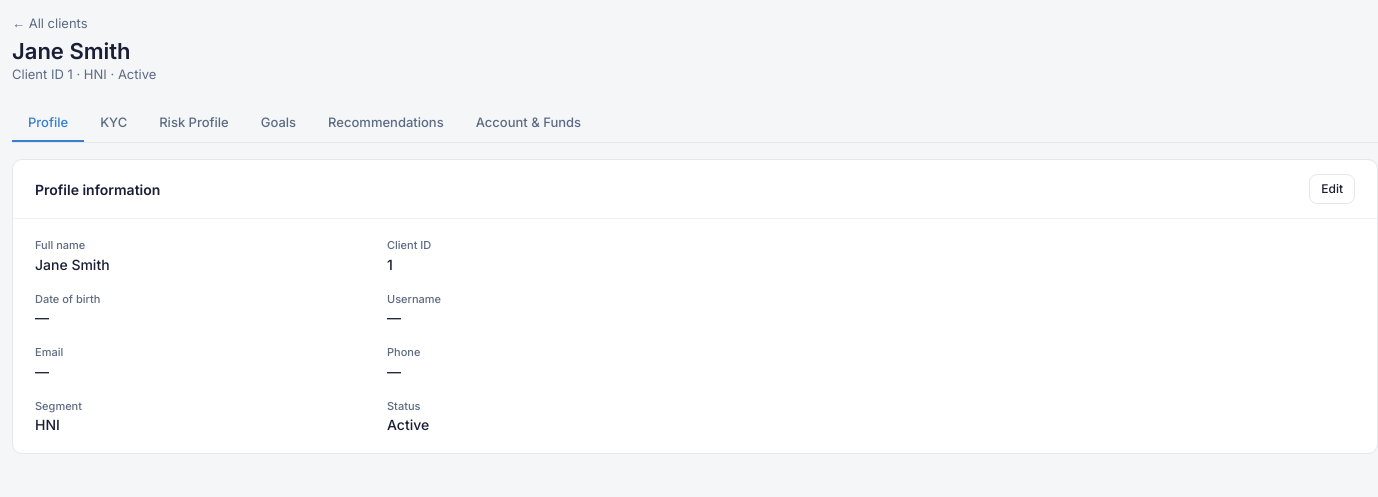
ClientDetail page › switches to KYC tab when KYC button is clicked
This screenshot has width=1378, height=497.
Click the button "KYC" at point(114, 123), box [84,104,143,142]
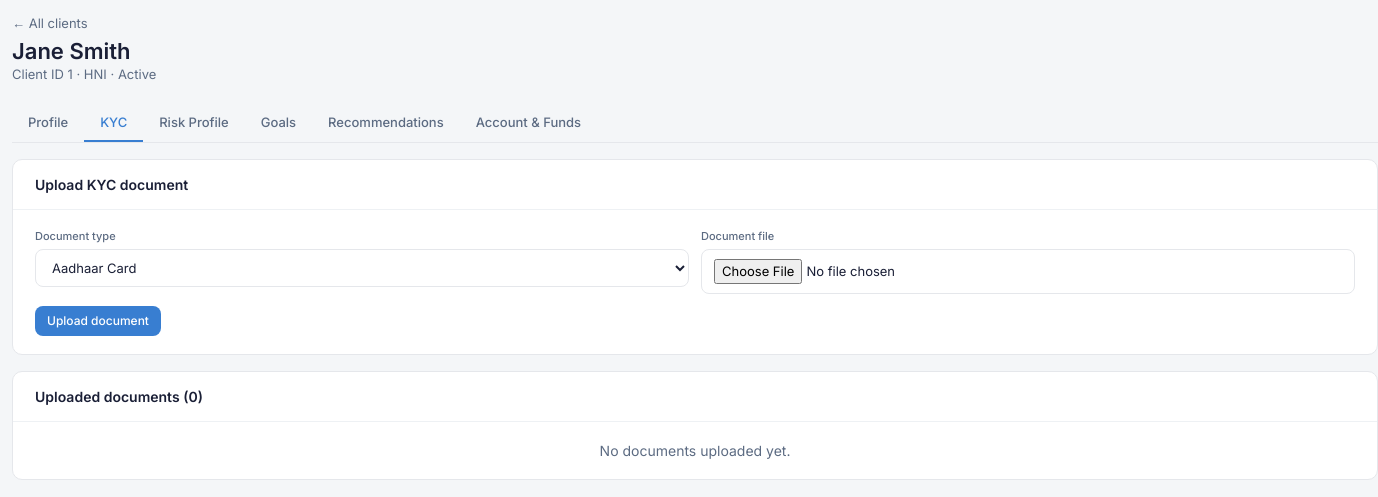
Expected: the heading "Upload KYC document" is shown, [35,174,188,195]
